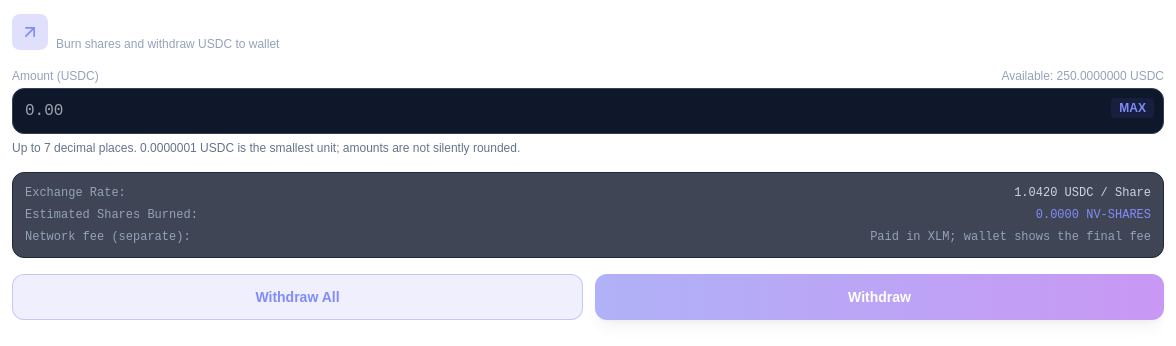
Test: WithdrawForm Component Tests › MAX button sets input value to available balance
Click the button with aria-label "set maximum withdraw amount" at (1133, 108), box [1111, 98, 1154, 118]
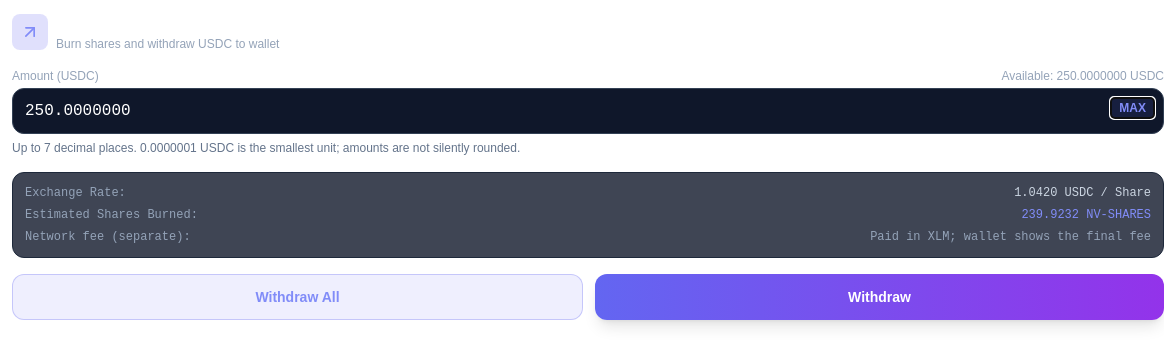
Now the number field named "withdraw amount" holds "250", box [12, 88, 1164, 134]
